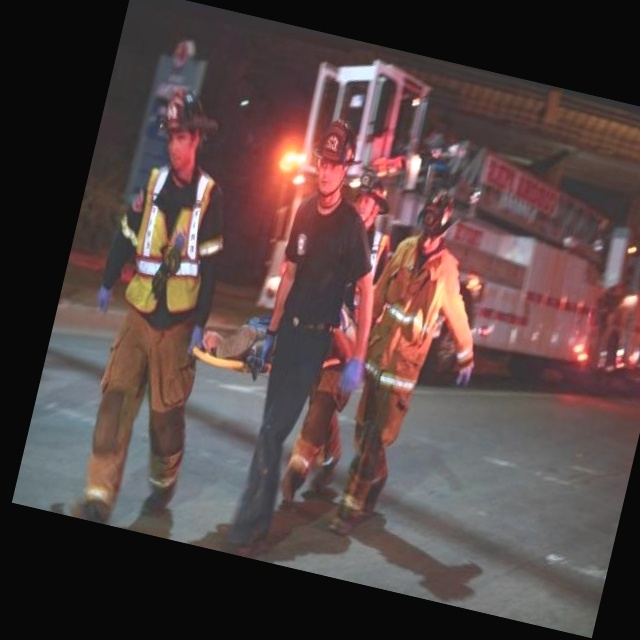Con_Chaleco: (115, 156, 222, 326)
Sin_Chaleco: (272, 191, 373, 338)
